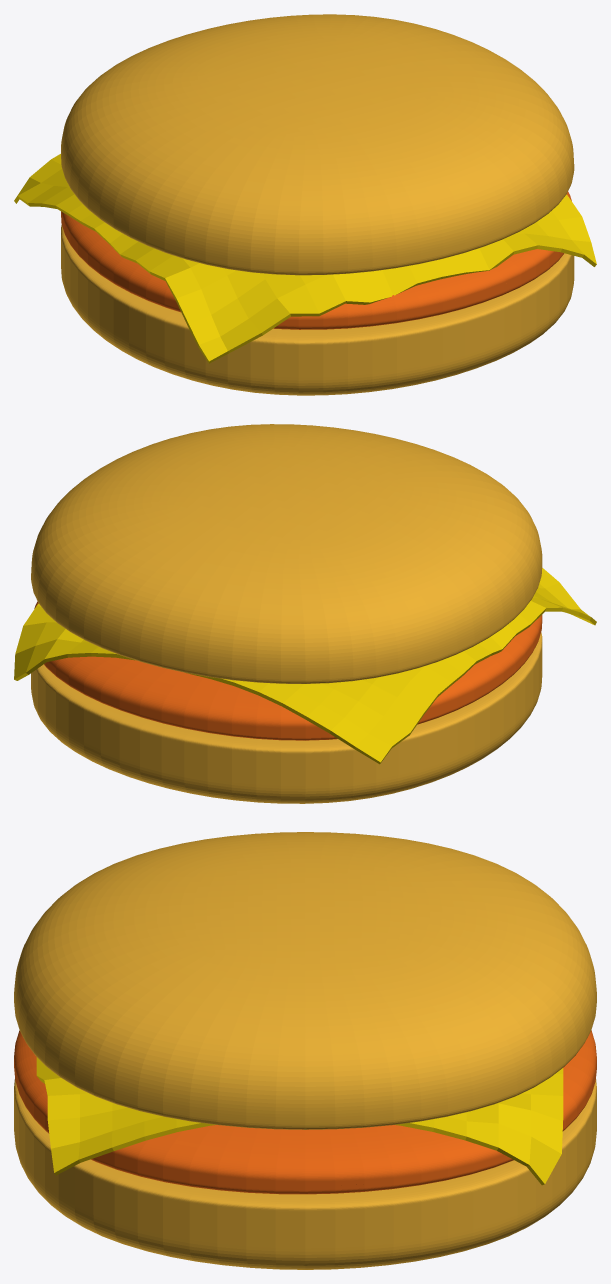
Rendered from borgir.glb.
3 renders of one model, top to bottom at view 1: azimuth 30°, elevation 25°; view 2: azimuth 150°, elevation 25°; view 3: azimuth 270°, elevation 25°, orthographic. The views are drawn at different scales.
Parts seen in each view (by area): view 1: Cube.002, Cube, Plane, Cube.001; view 2: Cube.002, Cube, Plane, Cube.001; view 3: Cube.002, Cube, Cube.001, Plane.
Part boxes in pixels (x1=…): Cube.002: x1=61, y1=14, x2=574, y2=275; Cube: x1=61, y1=225, x2=574, y2=395; Plane: x1=14, y1=154, x2=596, y2=363; Cube.001: x1=61, y1=191, x2=571, y2=329; Cube.002: x1=31, y1=424, x2=542, y2=683; Cube: x1=31, y1=632, x2=542, y2=803; Plane: x1=14, y1=568, x2=596, y2=764; Cube.001: x1=34, y1=601, x2=542, y2=740; Cube.002: x1=14, y1=832, x2=596, y2=1129; Cube: x1=14, y1=1079, x2=596, y2=1269; Cube.001: x1=14, y1=1030, x2=596, y2=1194; Plane: x1=36, y1=1057, x2=563, y2=1185.
Bounding box in the file's own units: 39.99 × 20.52 × 39.99.
